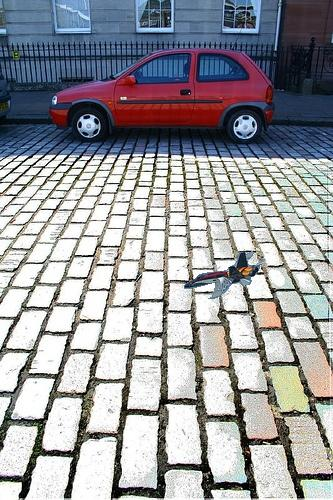tampered: (185, 252, 265, 299)
